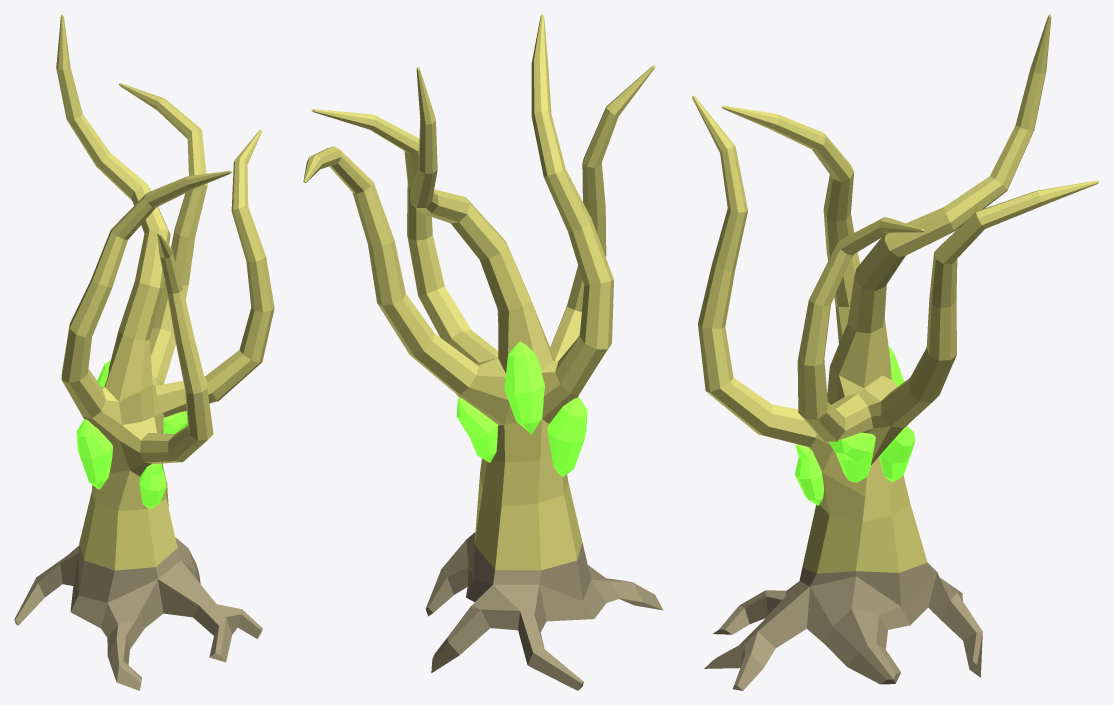
File: Tree_19_Var_03.fbx
The picture shows the model from 3 angles, left to right: view 1: azimuth 30°, elevation 25°; view 2: azimuth 150°, elevation 25°; view 3: azimuth 270°, elevation 25°; orthographic projection. The views are drawn at different scales.
Parts seen in each view (by area): view 1: Tree_19_Var_03; view 2: Tree_19_Var_03; view 3: Tree_19_Var_03.
Part boxes in pixels (box(x1,y1,x2,y2)): Tree_19_Var_03: box(14, 14, 274, 690); Tree_19_Var_03: box(303, 14, 662, 690); Tree_19_Var_03: box(692, 14, 1099, 690).
Bounding box in the file's own units: 3.05 × 5.43 × 2.47.
